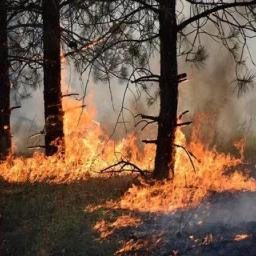Low smoke: (165, 6, 253, 111)
Small fire: (3, 51, 153, 182), (167, 97, 256, 205), (89, 185, 168, 252)
